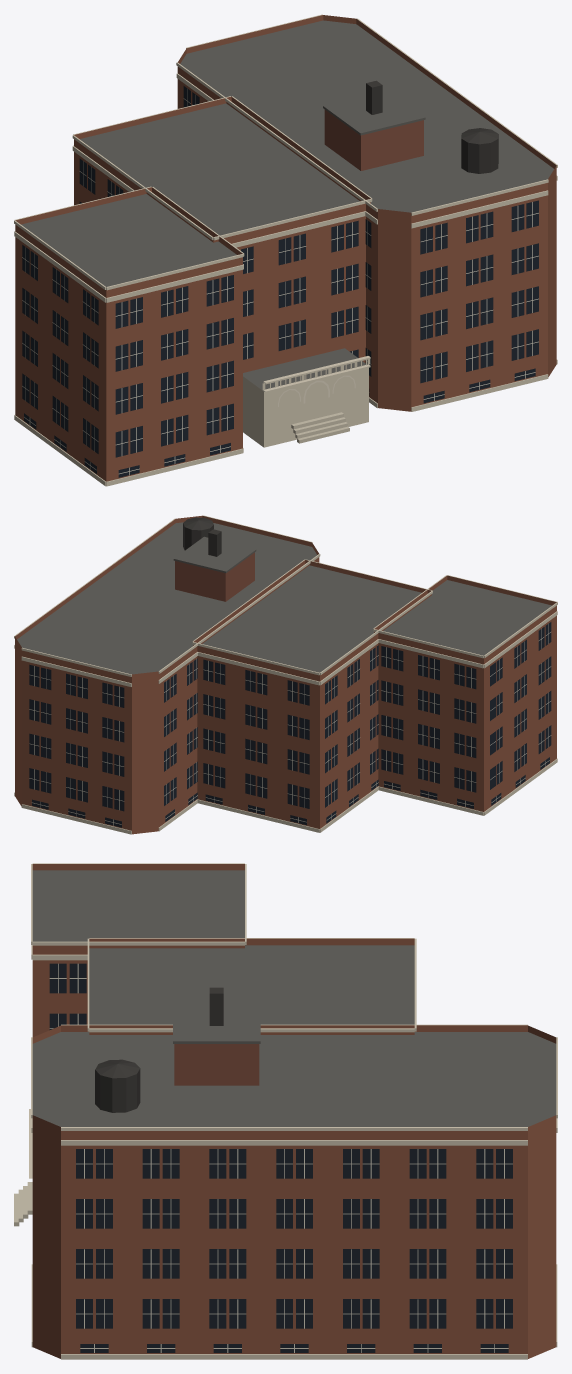
The model's file is missouri-pacific-hospital-1925.glb.
The picture shows the model from 3 angles, top to bottom: view 1: azimuth 30°, elevation 25°; view 2: azimuth 150°, elevation 25°; view 3: azimuth 270°, elevation 25°; orthographic projection. The views are drawn at different scales.
Parts seen in each view (by area): view 1: missouri_brick, missouri_roof, missouri_glass, missouri_stone, missouri_sash, missouri_brick2, missouri_dark, missouri_base; view 2: missouri_brick, missouri_roof, missouri_glass, missouri_stone, missouri_sash, missouri_brick2, missouri_dark; view 3: missouri_brick, missouri_roof, missouri_glass, missouri_stone, missouri_sash, missouri_brick2, missouri_dark, missouri_base.
Boxes of the visible parts, box(x1,y1,x2,y2) form: missouri_brick: box(15, 15, 556, 481); missouri_roof: box(21, 20, 553, 391); missouri_glass: box(22, 86, 538, 477); missouri_stone: box(14, 14, 557, 486); missouri_sash: box(22, 89, 538, 475); missouri_brick2: box(324, 109, 423, 170); missouri_dark: box(366, 80, 498, 173); missouri_base: box(291, 412, 349, 443); missouri_brick: box(15, 515, 556, 834); missouri_roof: box(17, 522, 551, 674); missouri_glass: box(29, 622, 551, 827); missouri_stone: box(14, 515, 557, 834); missouri_sash: box(29, 624, 551, 825); missouri_brick2: box(175, 552, 254, 601); missouri_dark: box(183, 517, 221, 556); missouri_brick: box(32, 864, 556, 1358); missouri_roof: box(32, 870, 556, 1126); missouri_glass: box(49, 963, 512, 1352); missouri_stone: box(29, 863, 557, 1359); missouri_sash: box(49, 963, 512, 1352); missouri_brick2: box(174, 1044, 259, 1085); missouri_dark: box(95, 987, 223, 1112); missouri_base: box(14, 1182, 32, 1226).
Size of the model in its own units: 44.24 by 23.6 by 38.45.
